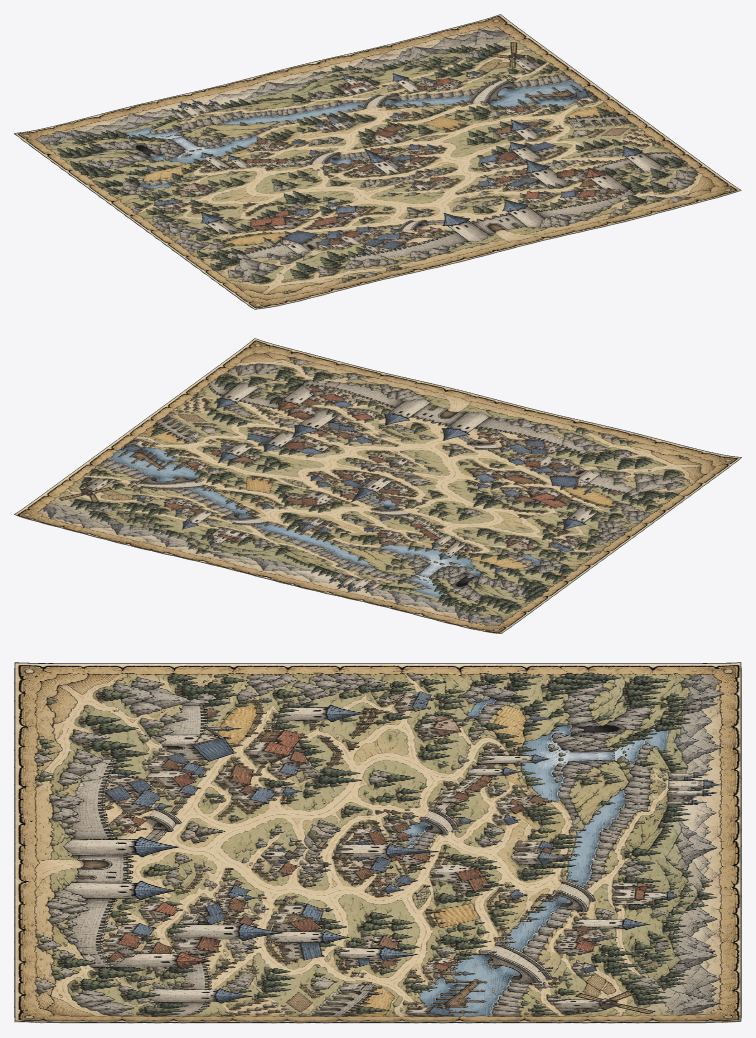
Rendered from MD-02-environment-map.glb.
3 views of the same model, one above another, from view 1: azimuth 30°, elevation 25°; view 2: azimuth 150°, elevation 25°; view 3: azimuth 270°, elevation 25° (orthographic). The views are drawn at different scales.
Visible parts, largest first — view 1: Map_Thin_Paper.001, Paper_ink_edge.001; view 2: Map_Thin_Paper.001, Paper_ink_edge.001; view 3: Map_Thin_Paper.001, Paper_ink_edge.001.
Boxes of the visible parts, x1=… form: Map_Thin_Paper.001: x1=14, y1=15, x2=741, y2=309; Paper_ink_edge.001: x1=14, y1=14, x2=740, y2=309; Map_Thin_Paper.001: x1=15, y1=338, x2=740, y2=633; Paper_ink_edge.001: x1=14, y1=338, x2=741, y2=633; Map_Thin_Paper.001: x1=14, y1=663, x2=741, y2=1023; Paper_ink_edge.001: x1=14, y1=662, x2=741, y2=1022.
Bounding box in the file's own units: 1.66 × 0.0133 × 1.42.
3 materials, 1 textured.
